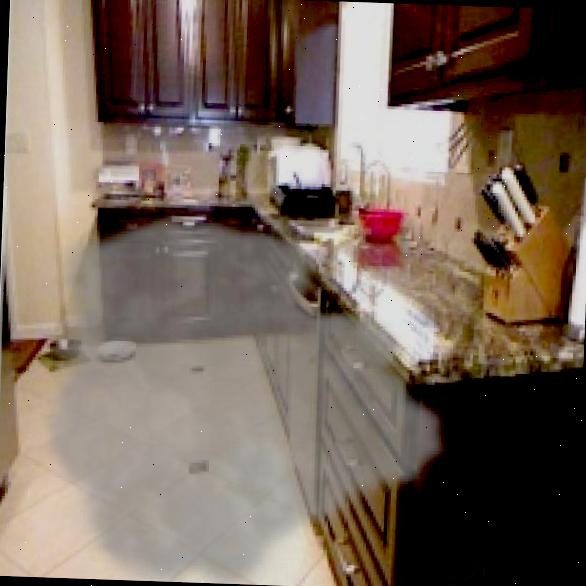smoke: (34, 203, 467, 586)
